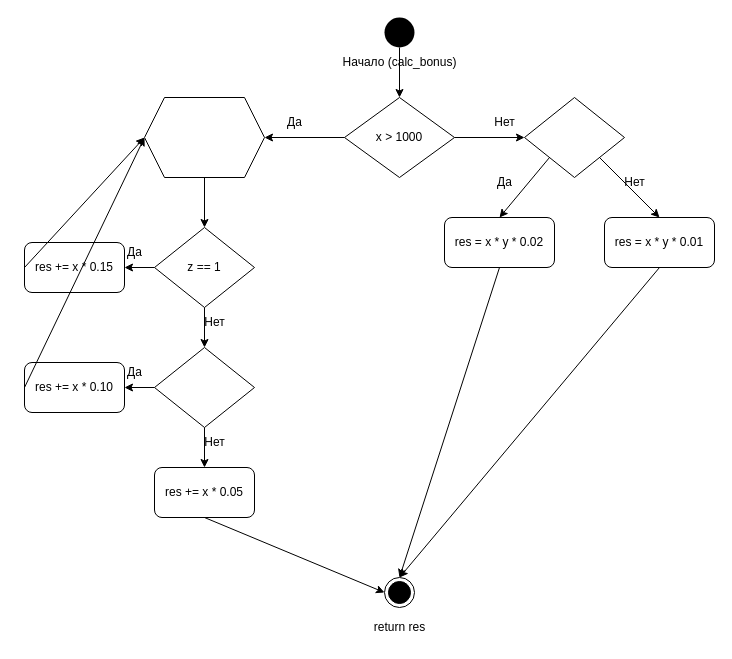
This 732x659 diagram has some shape labels left out. The shapes that lost their labels are listed below. From the top down, each one's centre as x and y in pixels, then its label:
At point 204,137: "Цикл: i от 0 до y".
At point 574,137: "y > 10".
At point 204,387: "z == 2".
